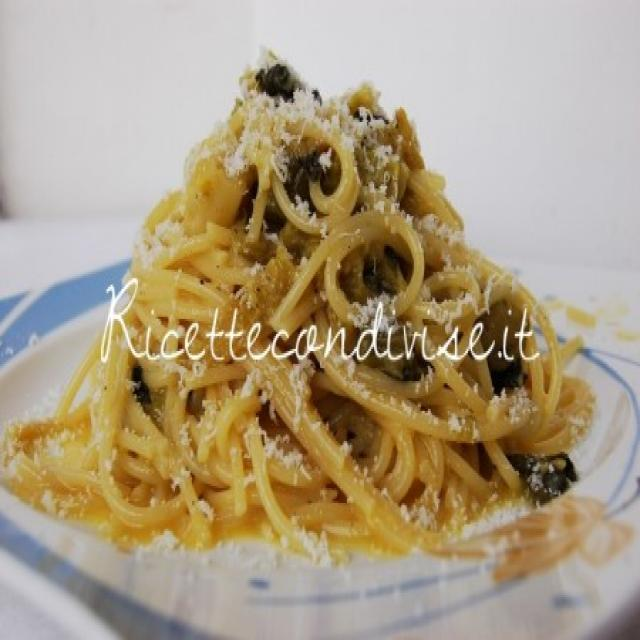Pasta with carbonara sauce: (92, 52, 566, 587)
